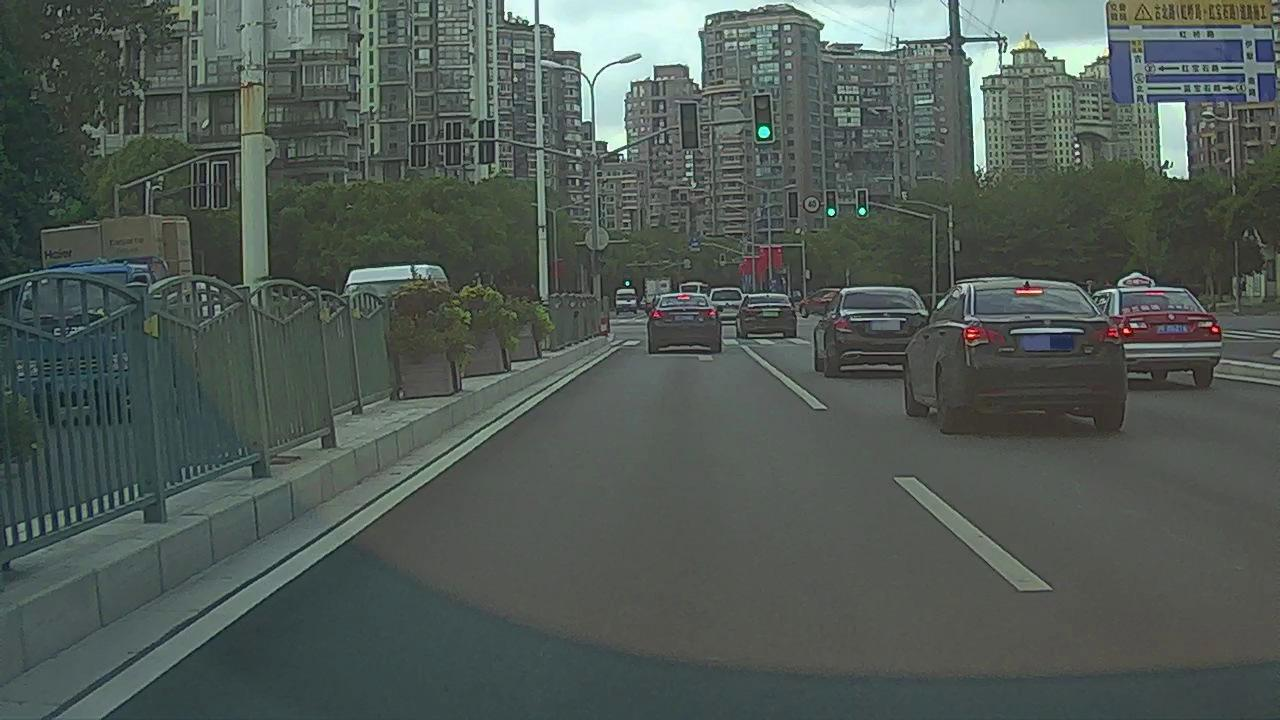traffic_light: (753, 96, 774, 142), (680, 102, 699, 150), (825, 190, 837, 218), (857, 190, 868, 218), (788, 193, 799, 219)
